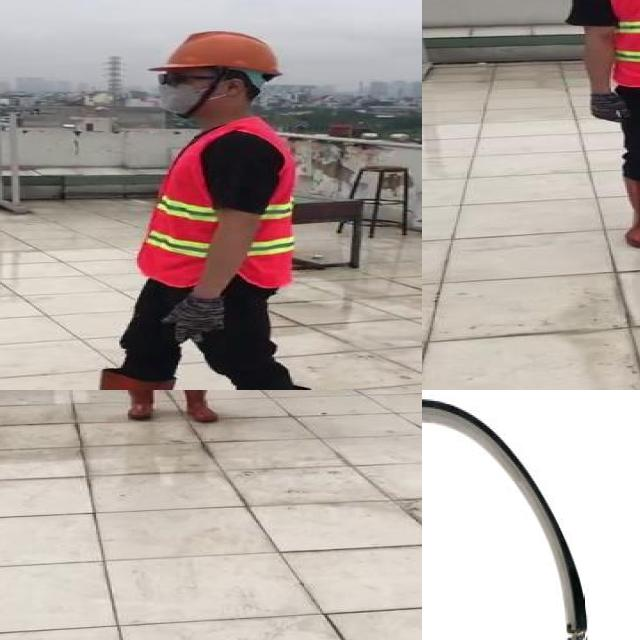Ear-protection: (422, 392, 600, 640)
boots: (28, 370, 174, 390), (617, 173, 640, 249), (179, 390, 218, 422), (119, 390, 156, 420)
face_mask: (152, 68, 216, 120)
glasses: (152, 66, 198, 92)
hand_glove: (162, 295, 228, 342), (580, 92, 633, 126)
head_helmet: (159, 27, 281, 76)
person: (25, 23, 325, 390), (562, 0, 640, 252)
vest: (134, 119, 292, 287)
